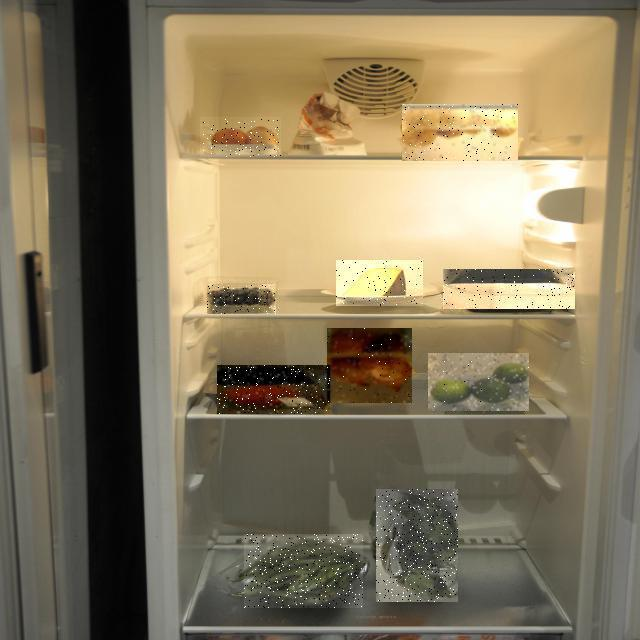Beans: (244, 534, 363, 608)
Cheese: (336, 260, 423, 306)
Eggs: (200, 117, 281, 157)
Lime: (428, 353, 529, 411)
Meat: (217, 365, 330, 414), (443, 269, 575, 309)
Olives: (207, 284, 276, 314)
Onion: (327, 328, 412, 403)
Potatoes: (402, 104, 518, 161)
Spinach: (376, 489, 458, 602)
